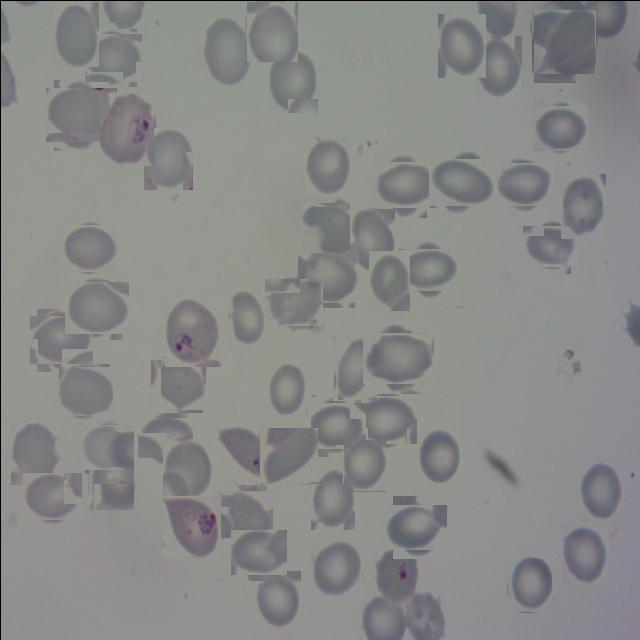leukocyte: (49, 83, 112, 146), (532, 9, 594, 72), (366, 326, 428, 388), (202, 14, 252, 88), (66, 278, 126, 336), (266, 47, 317, 113), (299, 248, 356, 305), (432, 154, 490, 210), (260, 426, 316, 484), (10, 420, 60, 484), (142, 127, 192, 190), (375, 156, 431, 212), (32, 312, 88, 368), (310, 538, 362, 598), (437, 13, 485, 77), (246, 1, 297, 61), (357, 391, 412, 446), (52, 1, 98, 66), (388, 499, 442, 554), (162, 438, 211, 498), (560, 173, 605, 238), (308, 398, 362, 452), (25, 468, 79, 522), (215, 487, 269, 541), (302, 200, 356, 254), (88, 447, 134, 510), (561, 523, 608, 584), (303, 136, 350, 197), (62, 220, 115, 274), (332, 335, 376, 400), (475, 35, 521, 97), (85, 31, 138, 84), (266, 275, 319, 328), (150, 358, 203, 410), (402, 243, 454, 295), (497, 158, 549, 210), (58, 364, 110, 416), (310, 468, 354, 529), (350, 208, 394, 269), (254, 570, 300, 628), (416, 427, 461, 486), (578, 460, 622, 520), (232, 526, 283, 577), (534, 101, 584, 152), (533, 22, 575, 82), (142, 412, 192, 462), (368, 250, 409, 310), (82, 422, 132, 471), (506, 558, 551, 612), (227, 288, 267, 347), (265, 361, 305, 419), (526, 221, 574, 269), (342, 439, 385, 491)
red blood cell: (99, 92, 153, 165), (164, 296, 220, 366), (161, 495, 220, 557)
